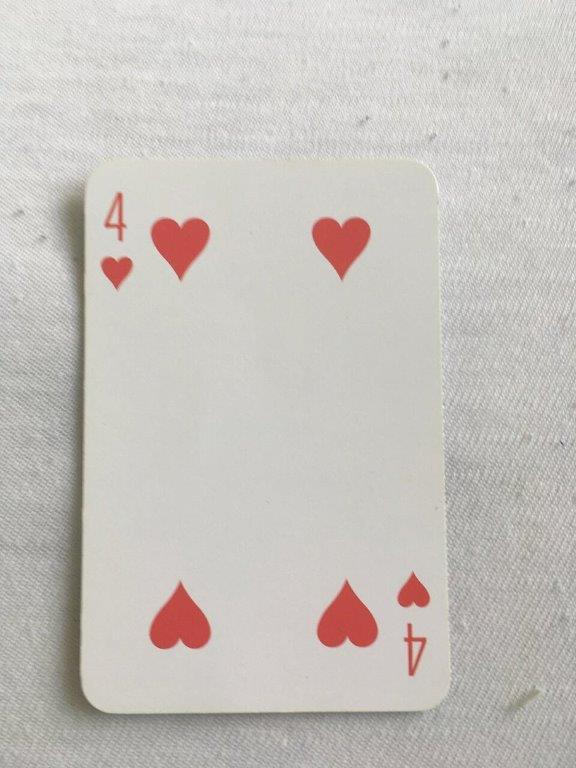4H: (77, 154, 456, 716)
